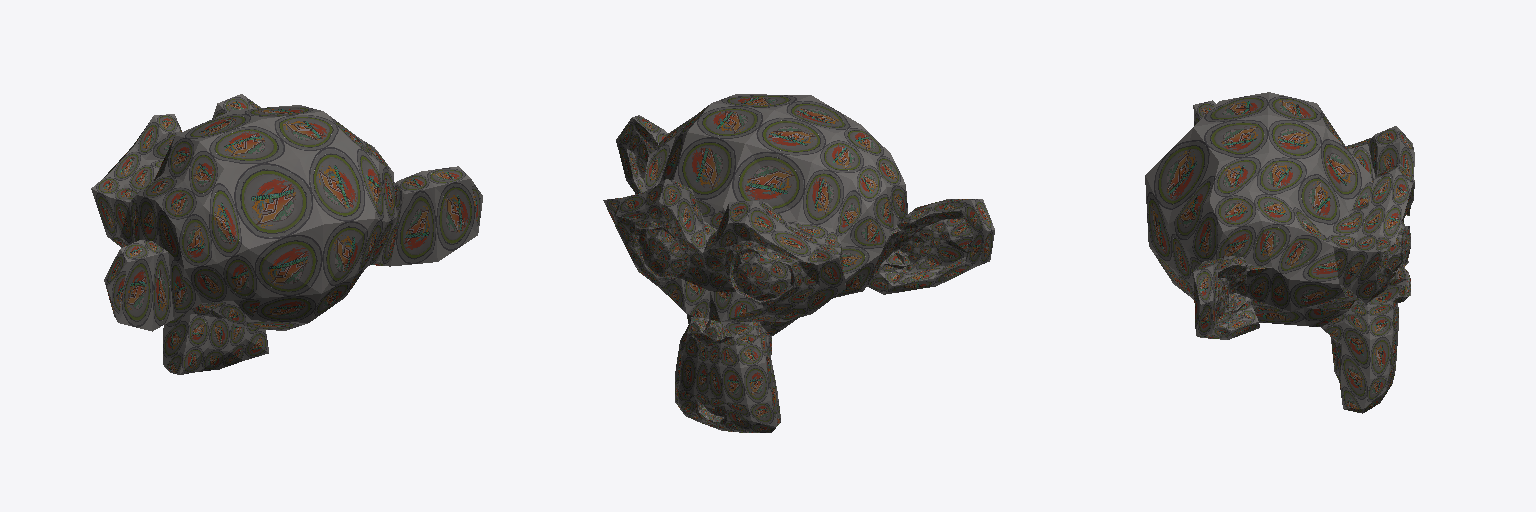
The picture shows the model from 3 angles: view 1: azimuth 30°, elevation 25°; view 2: azimuth 150°, elevation 25°; view 3: azimuth 270°, elevation 25°; orthographic projection.
Visible parts, largest first — view 1: Suzanne; view 2: Suzanne; view 3: Suzanne.
Part boxes in pixels (x1,y1,x2,y2): Suzanne: (91,94,482,374); Suzanne: (603,94,994,432); Suzanne: (1145,92,1414,413).
Bounding box in the file's own units: 2.73 × 1.97 × 1.7.
1 materials, 1 textured.